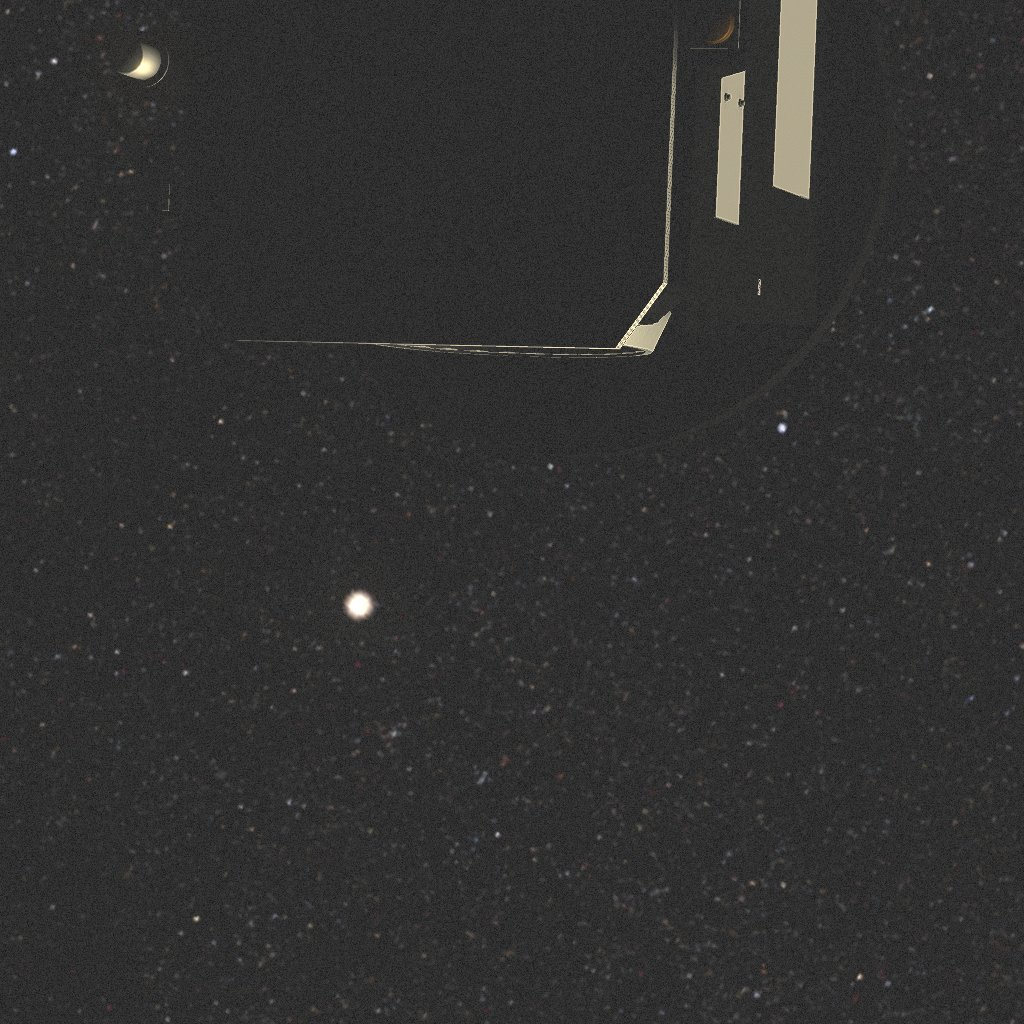proba_3_ocs: (109, 0, 895, 458)
